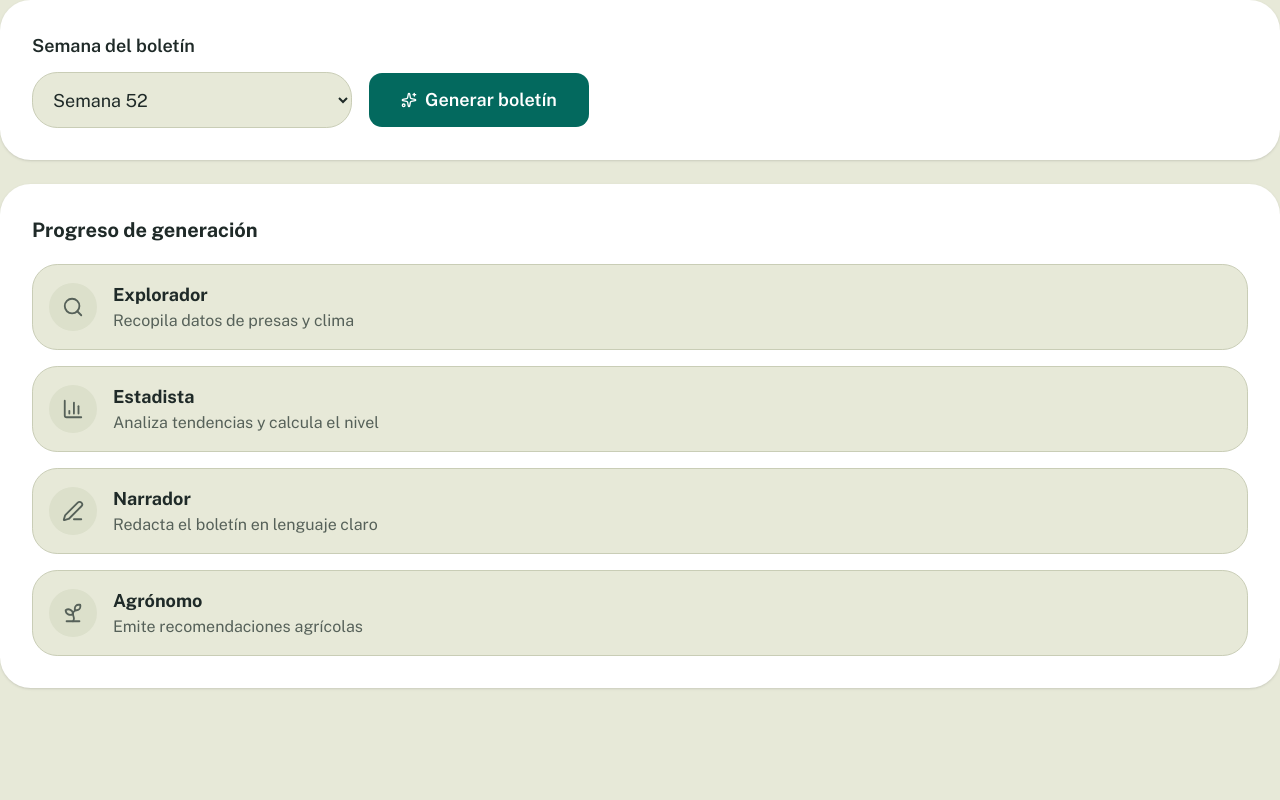
it: GobiernoGenerar › avanza Explorador → Estadista → Narrador → Agrónomo y ofrece 'Ver boletín' al terminar
Later steps or results of the test are not shown.
Click the button "Generar boletín": {"x": 479, "y": 100} [368, 72, 590, 128]
Wait 3700 ms
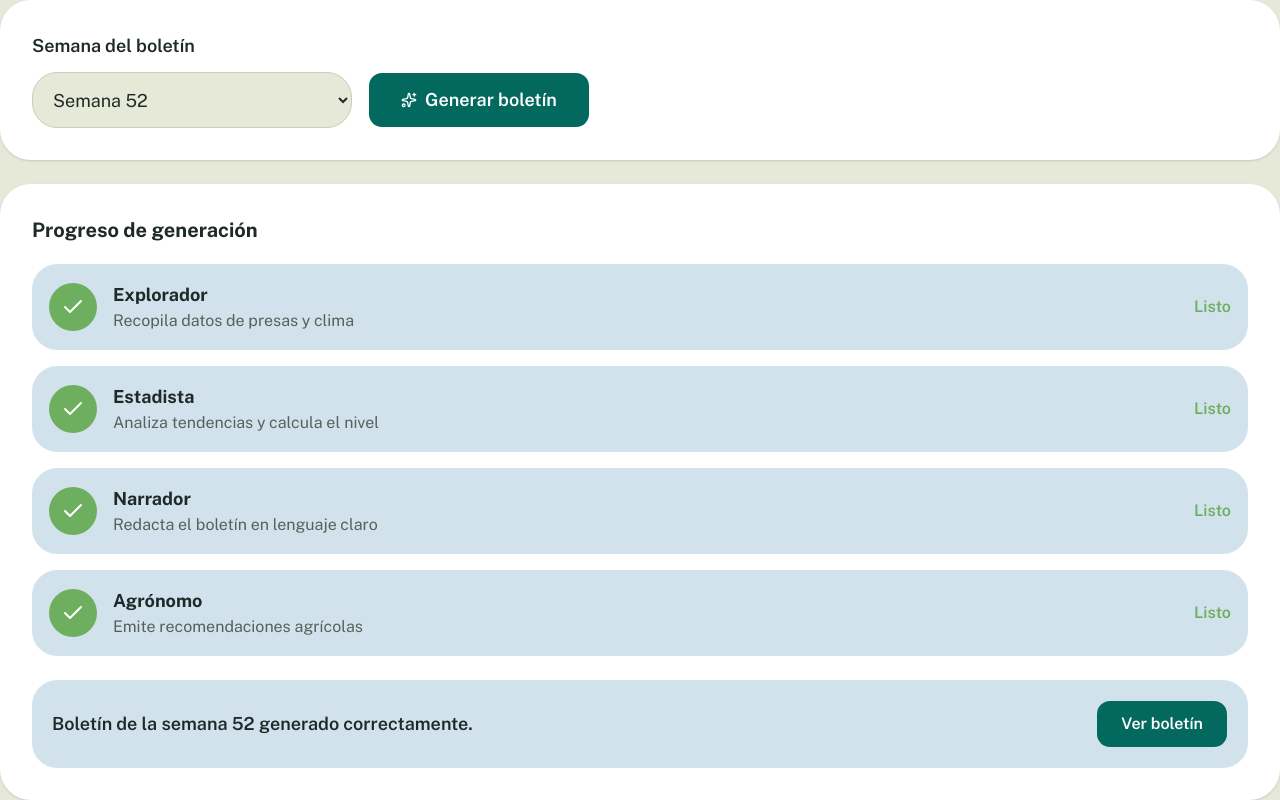
Expected: the text "Boletín de la semana 52 generado correctamente." is shown, [52, 710, 473, 738]
